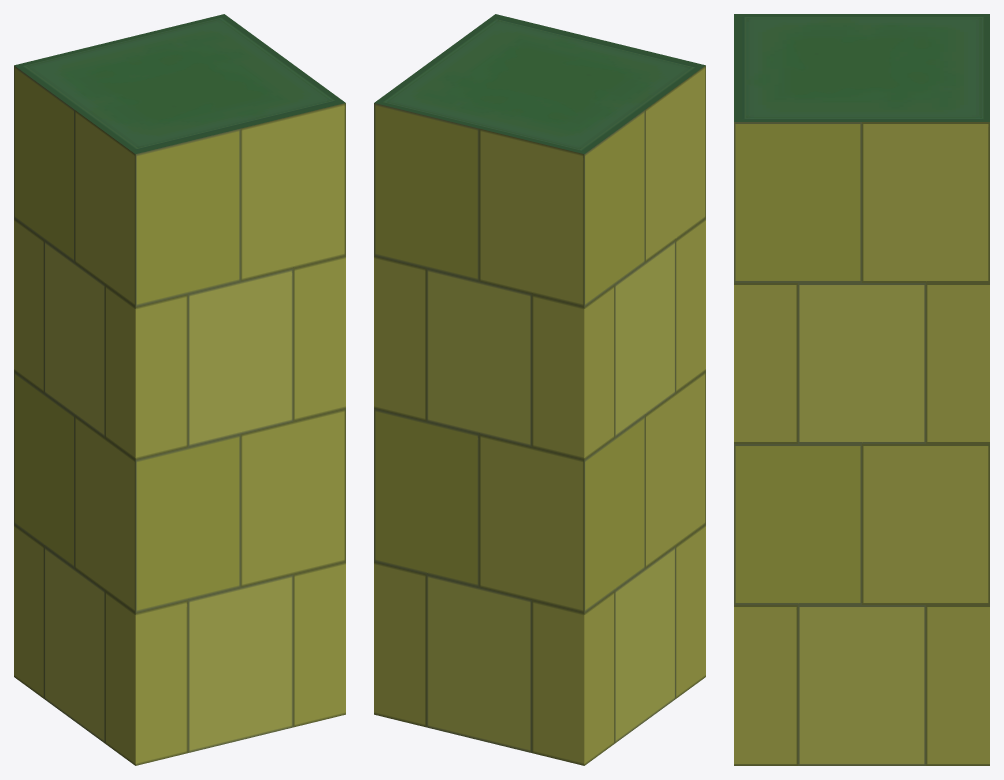
The model's file is WallBlock 175.fbx.
3 renders of one model, left to right at view 1: azimuth 30°, elevation 25°; view 2: azimuth 150°, elevation 25°; view 3: azimuth 270°, elevation 25°, orthographic. The views are drawn at different scales.
Parts seen in each view (by area): view 1: WallBlock 175; view 2: WallBlock 175; view 3: WallBlock 175.
Part boxes in pixels (box(x1,y1,x2,y2)): WallBlock 175: box(14, 14, 345, 765); WallBlock 175: box(374, 14, 705, 765); WallBlock 175: box(734, 14, 989, 765).
Size of the model in its own units: 0.72 by 2 by 0.72.
